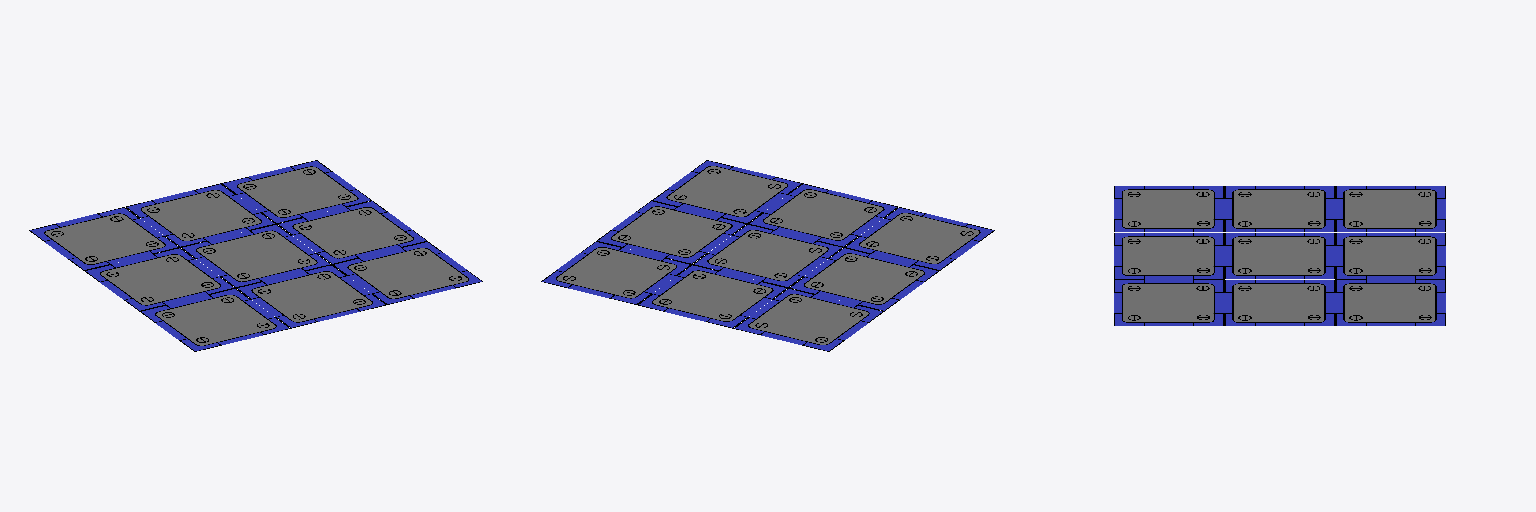
The picture shows the model from 3 angles: view 1: azimuth 30°, elevation 25°; view 2: azimuth 150°, elevation 25°; view 3: azimuth 270°, elevation 25°; orthographic projection.
Visible parts, largest first — view 1: Plane.013; view 2: Plane.013; view 3: Plane.013.
Boxes of the visible parts, x1,y1,x2,y2 form: Plane.013: [29, 160, 482, 351]; Plane.013: [541, 160, 994, 351]; Plane.013: [1114, 186, 1445, 325].
Size of the model in its own units: 6.01 by 0 by 6.
Materials: 1 (1 with a texture image).